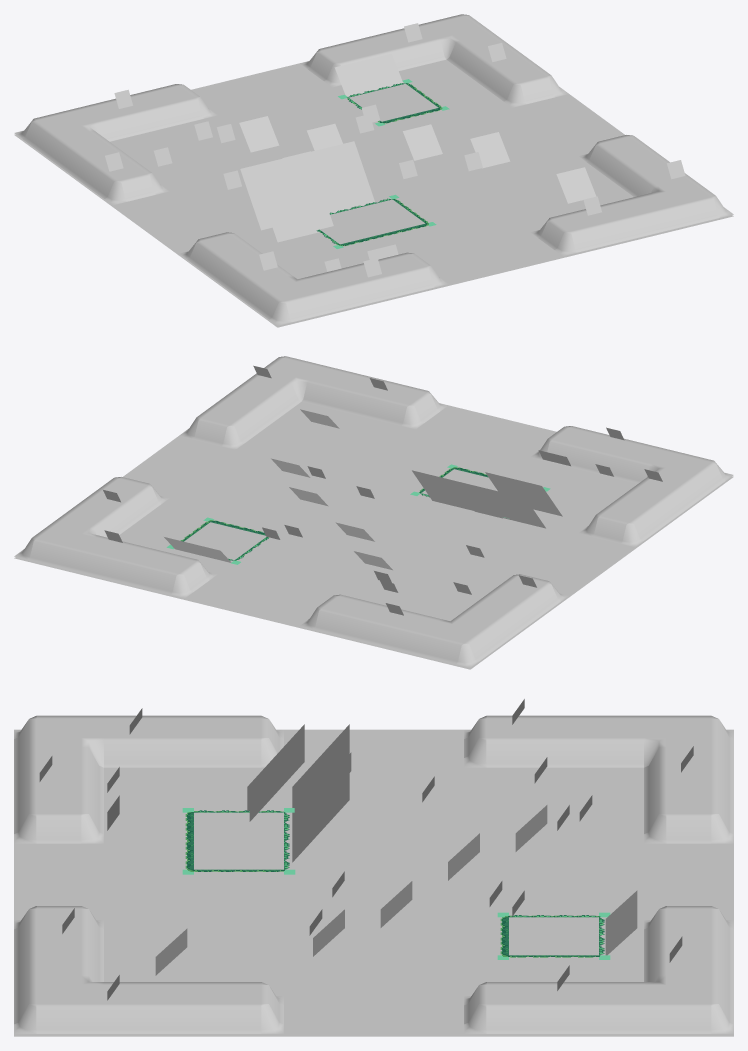
File: Safari Zone_Areas - Desert.dae
3 renders of one model, top to bottom at view 1: azimuth 30°, elevation 25°; view 2: azimuth 150°, elevation 25°; view 3: azimuth 270°, elevation 25°, orthographic. The views are drawn at different scales.
Visible parts, largest first — view 1: m_saf12_00_00c; view 2: m_saf12_00_00c; view 3: m_saf12_00_00c.
Boxes of the visible parts, bbox=[...] form: m_saf12_00_00c: bbox=[14, 14, 733, 327]; m_saf12_00_00c: bbox=[14, 356, 733, 669]; m_saf12_00_00c: bbox=[14, 699, 733, 1036].
Size of the model in its own units: 512 by 512 by 51.34.
